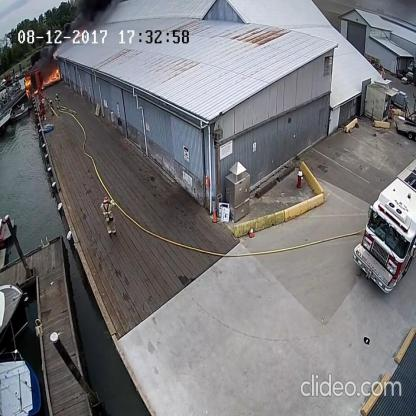fire: (42, 64, 62, 91), (22, 76, 36, 101)
